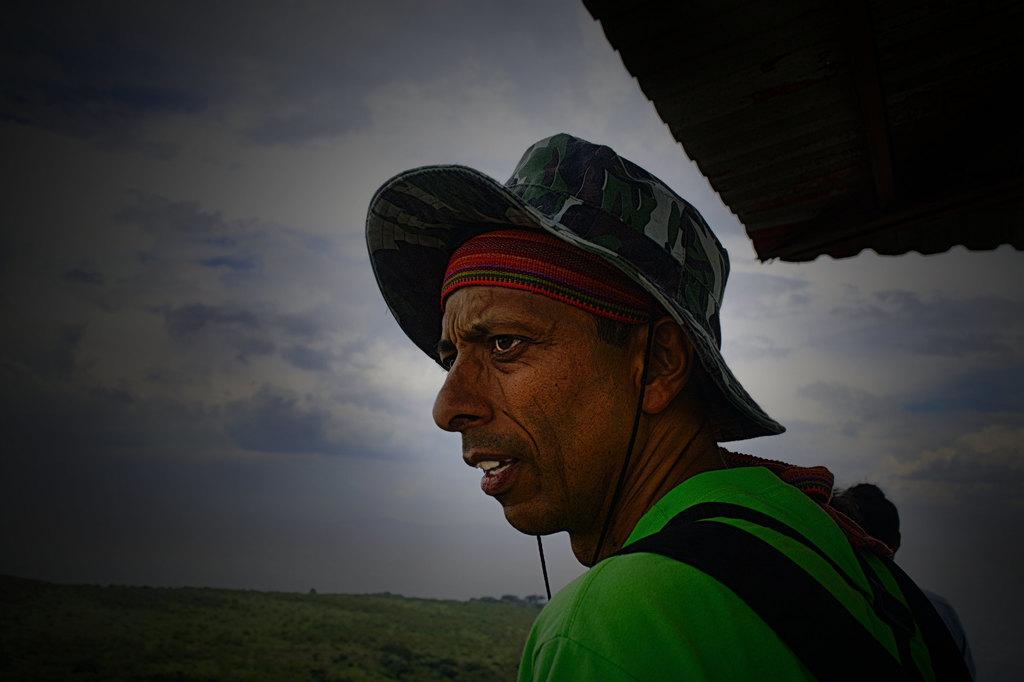Hat: (360, 131, 780, 445)
